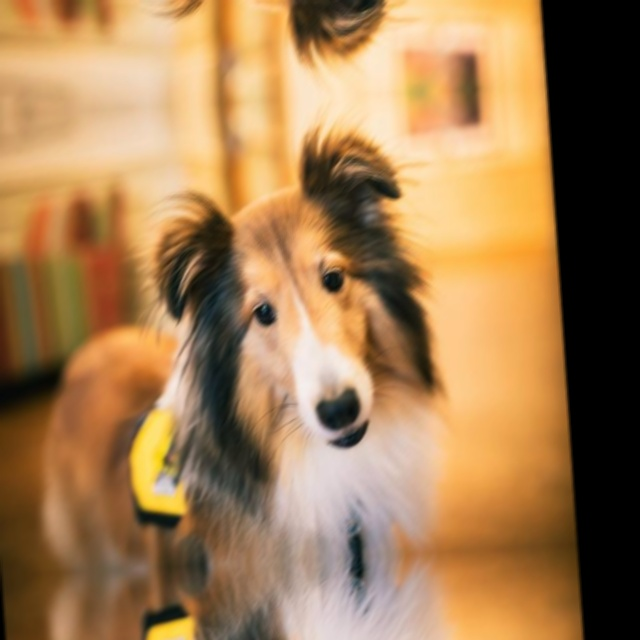dog: (113, 131, 488, 539), (103, 0, 455, 64), (143, 577, 497, 640)
